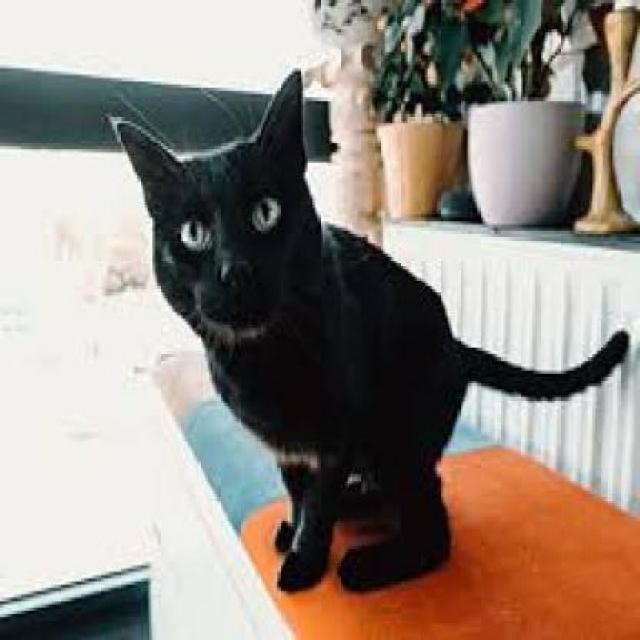animals: (112, 65, 623, 549)
